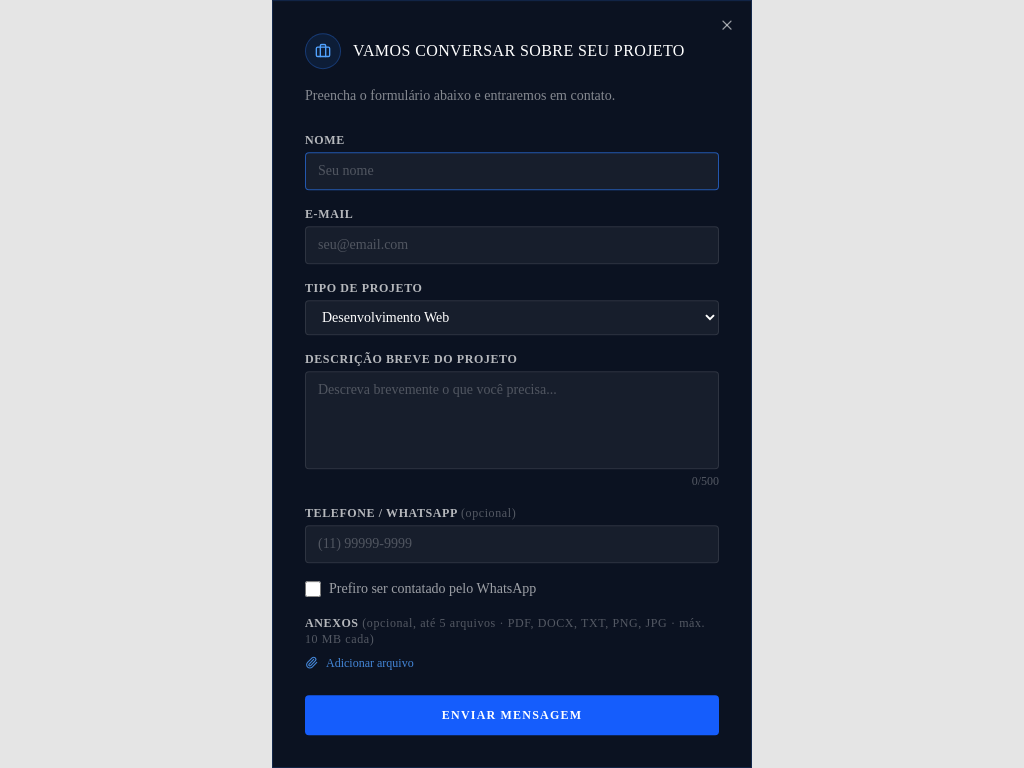
Test: ContactModal › estado de loading › exibe estado de loading durante o submit
Type "César" into the field labelled "Nome".
click(512, 171); type("César")  # box [305,152,719,190]
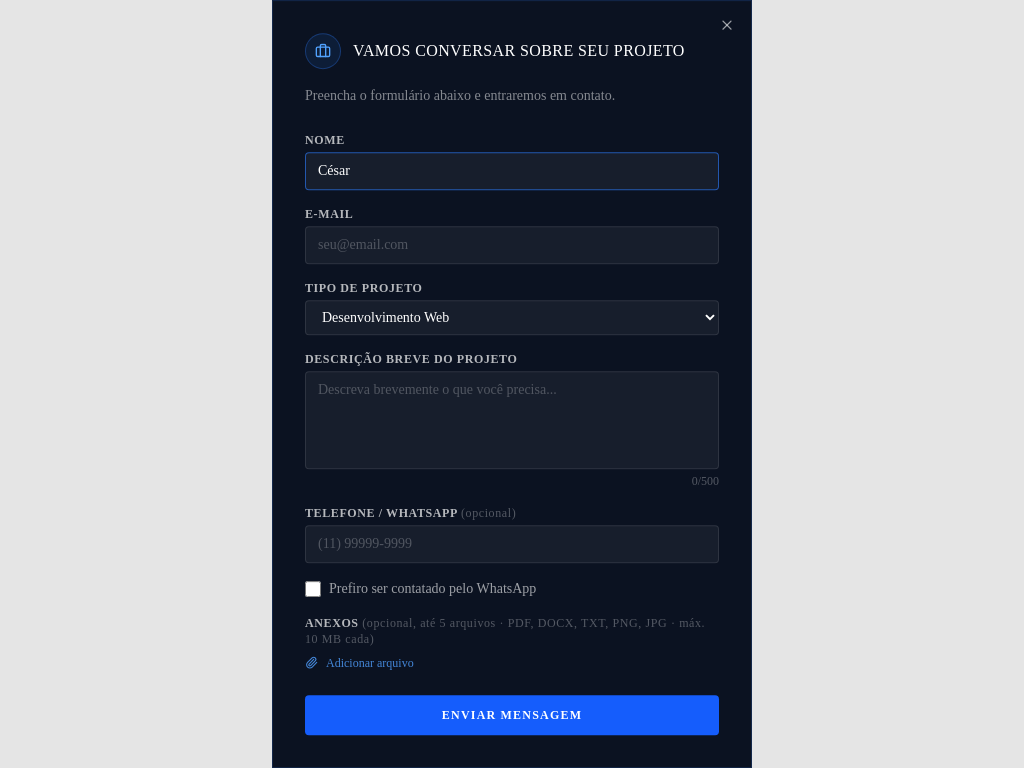
Type "cesar@exemplo.com" into the field labelled "E-mail".
click(512, 245); type("cesar@exemplo.com")  # box [305,226,719,264]
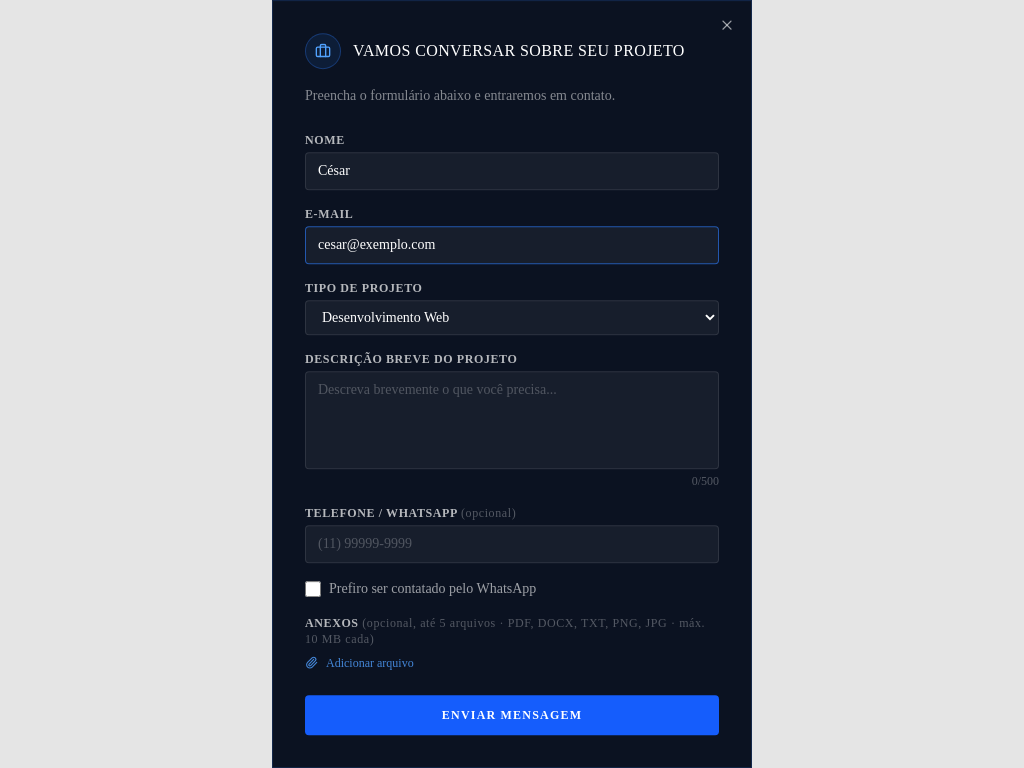
Type "Preciso de um sistema de gestão completo." into the text box labelled "Descrição breve do projeto".
click(512, 420); type("Preciso de um sistema de gestão completo.")  # box [305,371,719,469]
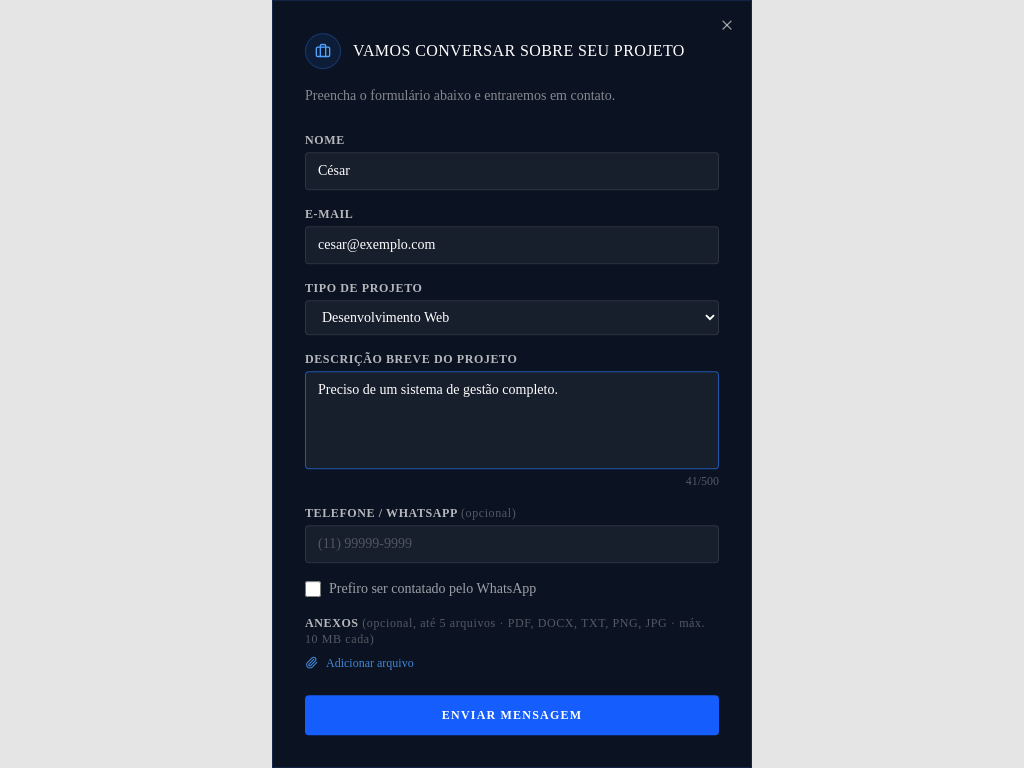
Click the button "Enviar mensagem".
click(512, 715)  # box [305,695,719,735]
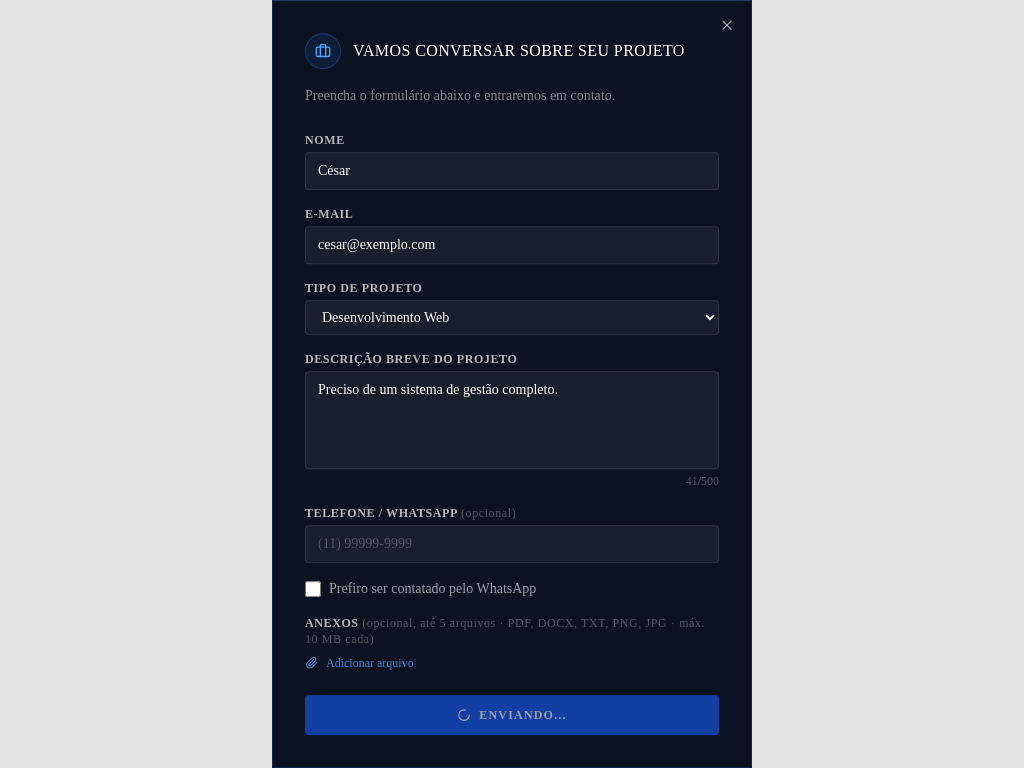
Now the button "Enviando..." is shown, box [305,695,719,735]
